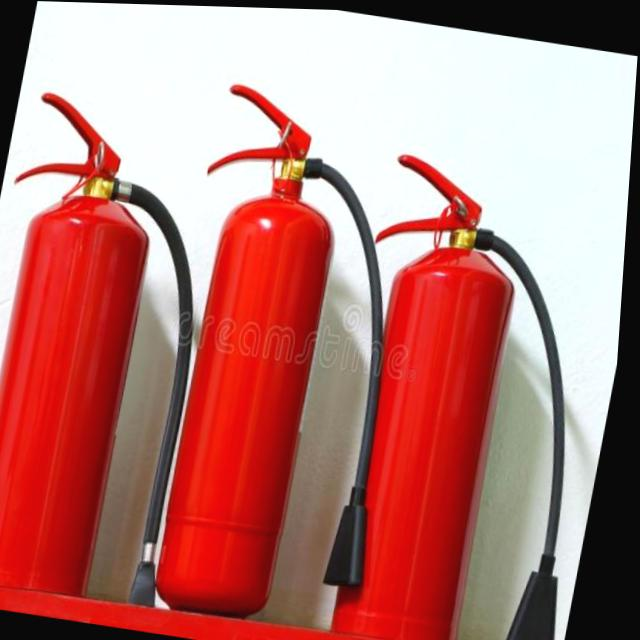FireExtinguisher: (124, 74, 457, 640), (298, 136, 633, 640), (0, 83, 256, 615)
